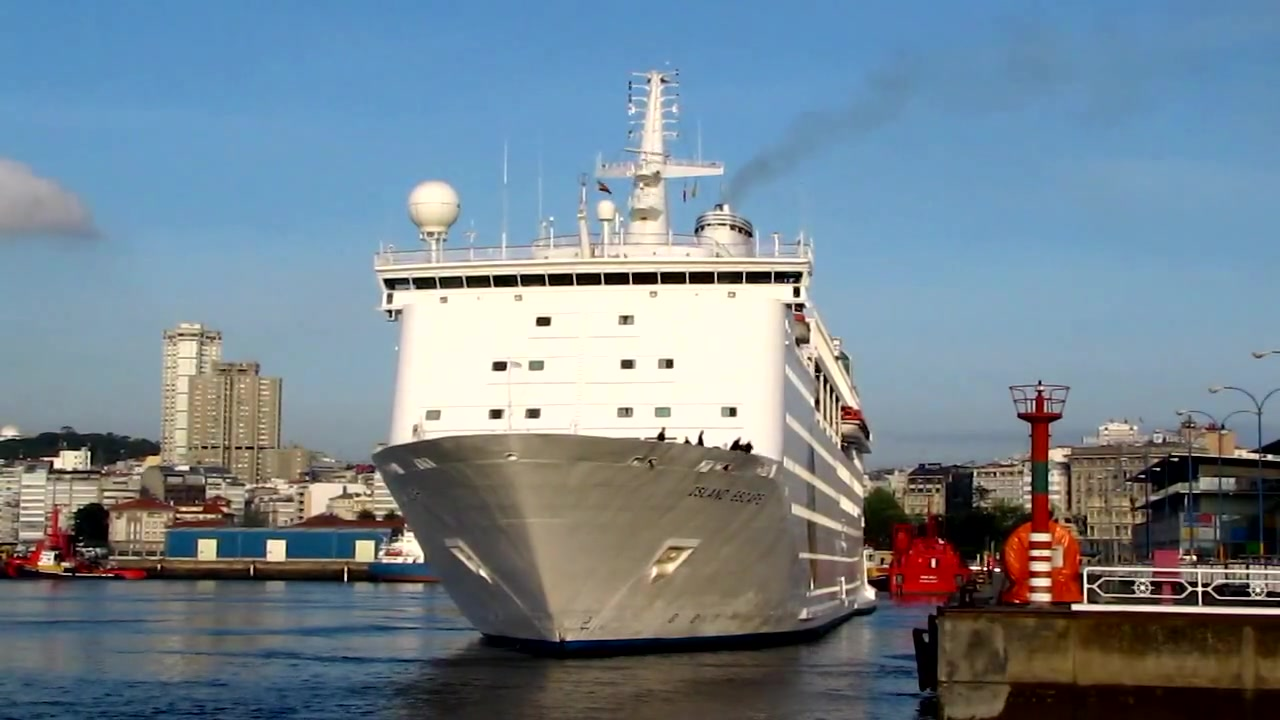boat: (373, 54, 882, 654)
